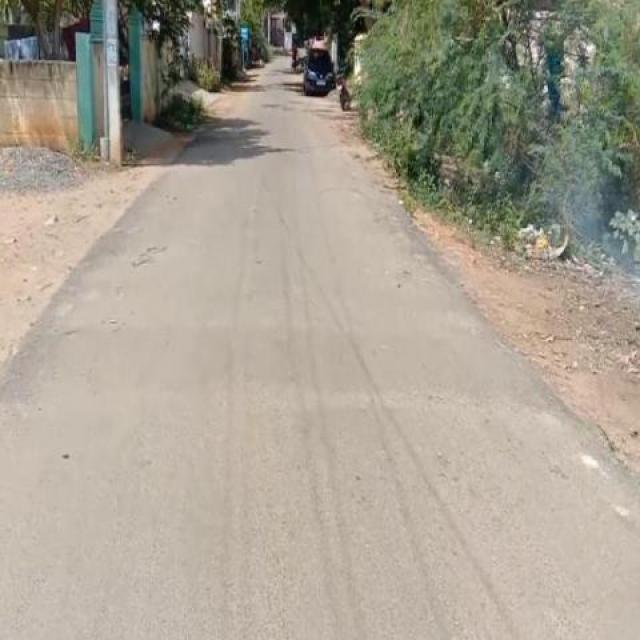Unmarked Bump: (0, 321, 548, 412)
